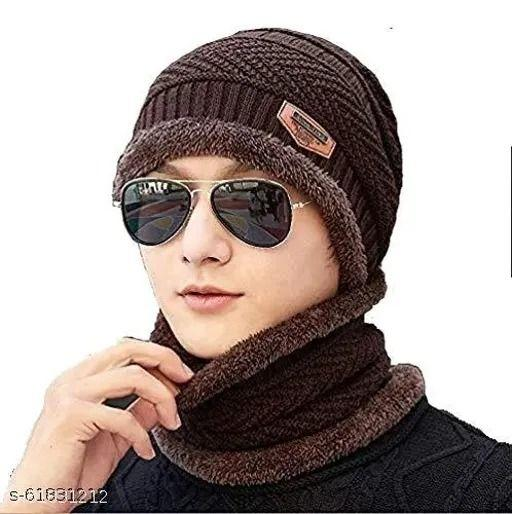cap: (114, 19, 424, 281)
sunglasses: (104, 169, 314, 261)
